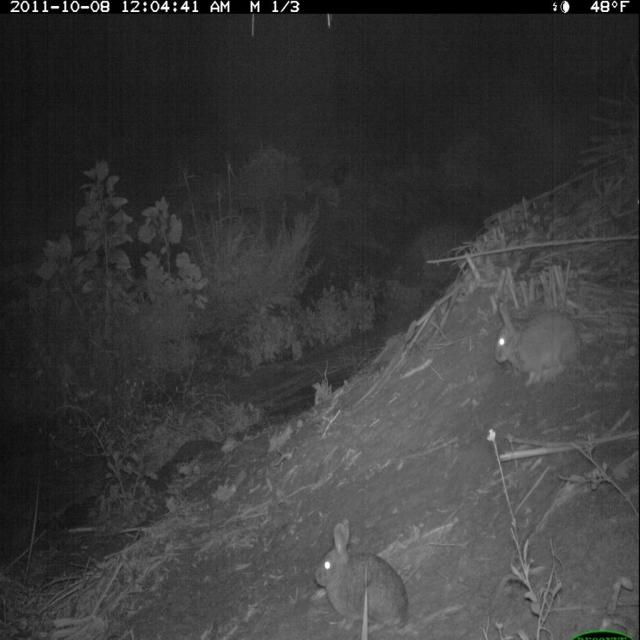rabbit: (307, 514, 412, 637), (491, 300, 585, 393)
